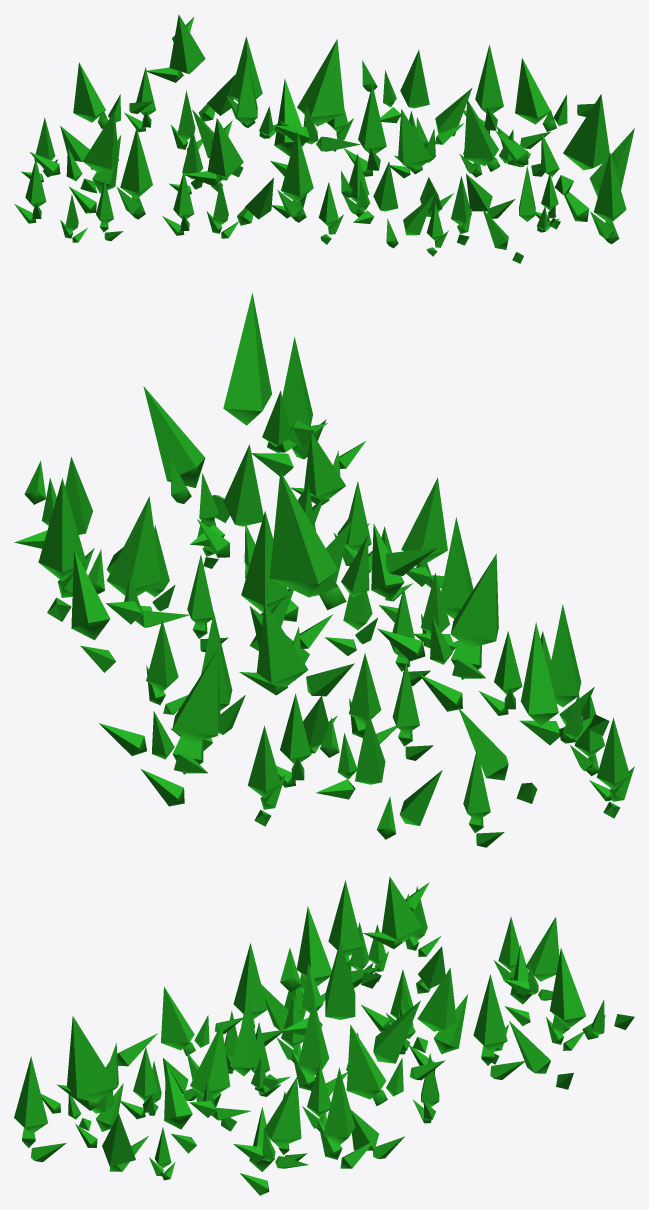
File: canopy - Copy.obj
The picture shows the model from 3 angles, top to bottom: view 1: azimuth 30°, elevation 25°; view 2: azimuth 150°, elevation 25°; view 3: azimuth 270°, elevation 25°; orthographic projection. The views are drawn at different scales.
Parts seen in each view (by area): view 1: Pyramid004; view 2: Pyramid004; view 3: Pyramid004.
Part boxes in pixels (box(x1,y1,x2,y2)): Pyramid004: box(14, 14, 634, 263); Pyramid004: box(14, 292, 634, 847); Pyramid004: box(14, 876, 634, 1195).
Size of the model in its own units: 792 by 242 by 791.
